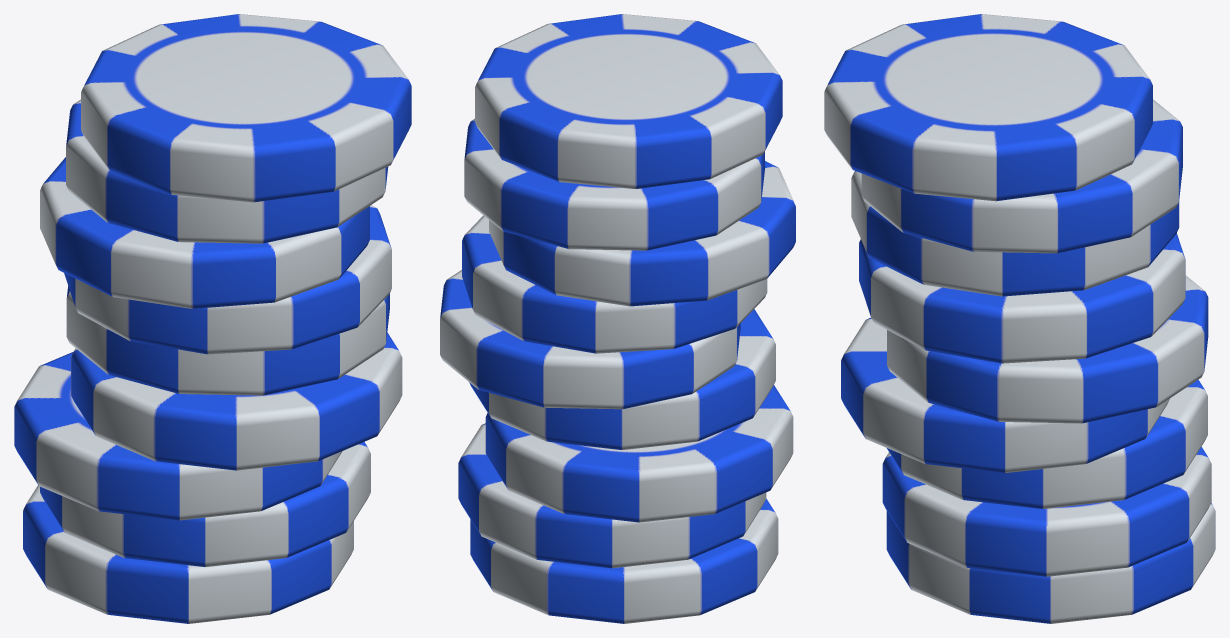
Rendered from zhangai_3.fbx.
3 views of the same model, side by side, from view 1: azimuth 30°, elevation 25°; view 2: azimuth 150°, elevation 25°; view 3: azimuth 270°, elevation 25° (orthographic). The views are drawn at different scales.
Visible parts, largest first — view 1: polySurface44, polySurface42; view 2: polySurface44, polySurface42; view 3: polySurface44, polySurface42.
Boxes of the visible parts, x1,y1,x2,y2 form: polySurface44: (14, 14, 411, 623); polySurface42: (178, 521, 353, 623); polySurface44: (440, 14, 795, 623); polySurface42: (470, 519, 553, 615); polySurface44: (824, 14, 1212, 576); polySurface42: (886, 504, 1215, 623).
Size of the model in its own units: 105 by 148 by 107.
